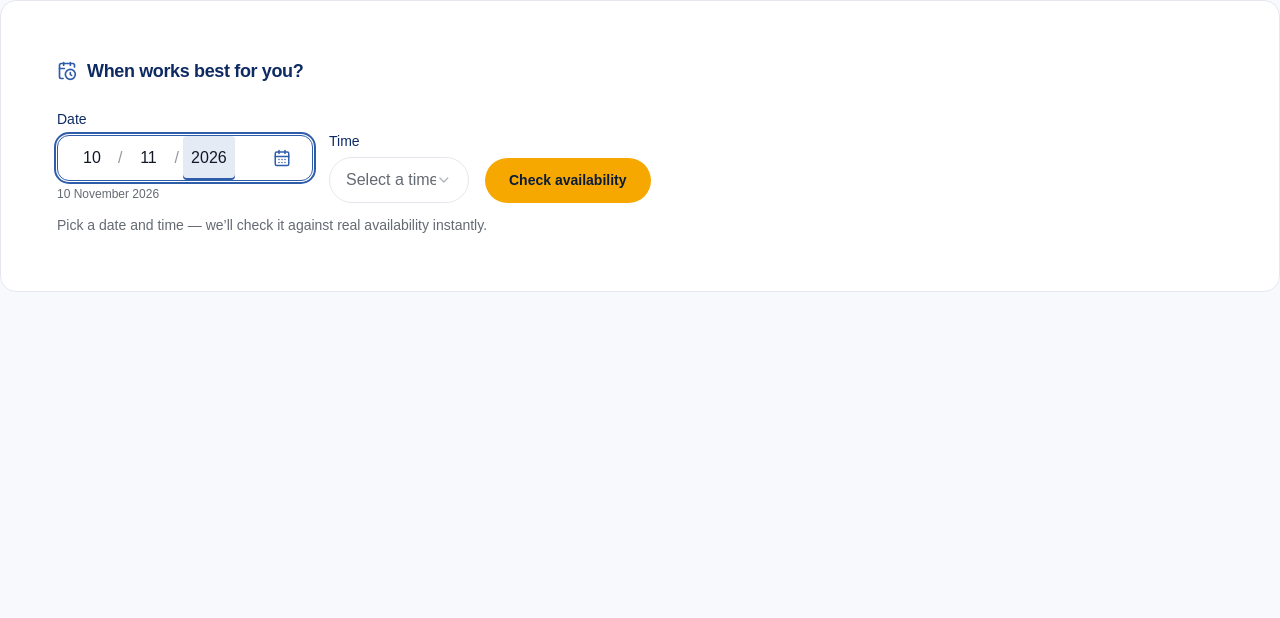
it: Booking — 422/429 codes show localized copy, not the backend English › daily_booking_limit
Click the dropdown at {"x": 399, "y": 180}, box left=329, top=157, right=469, bottom=203
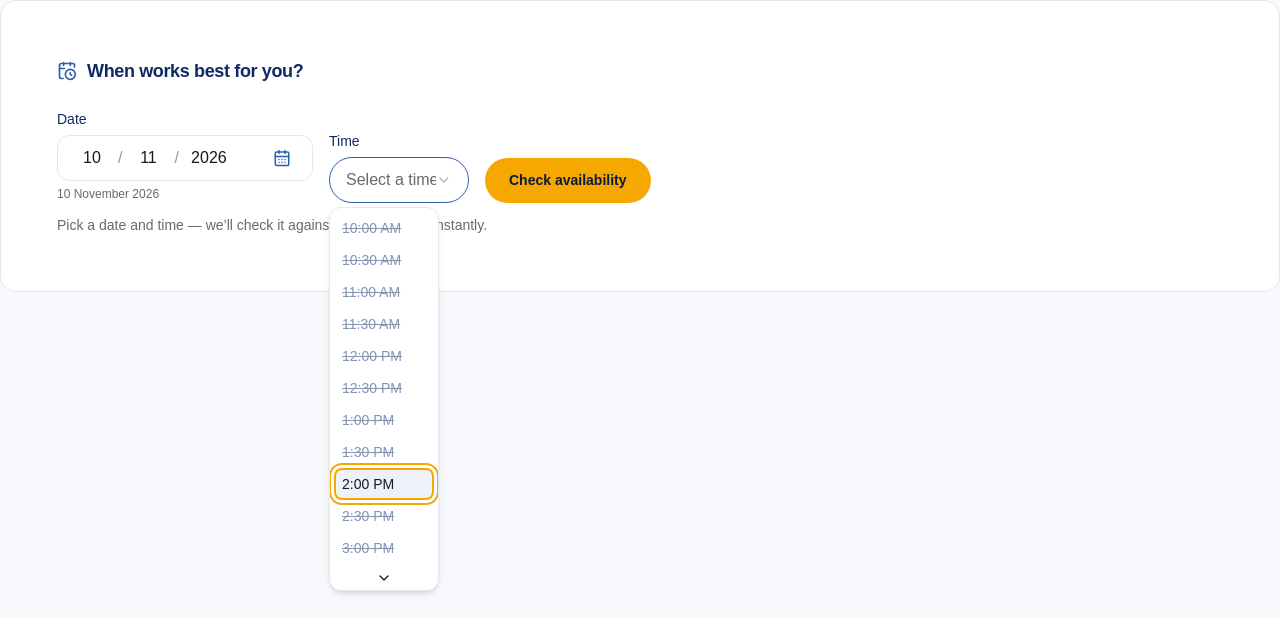
Click the option "2:00 PM" at {"x": 384, "y": 484}, box left=334, top=468, right=434, bottom=500
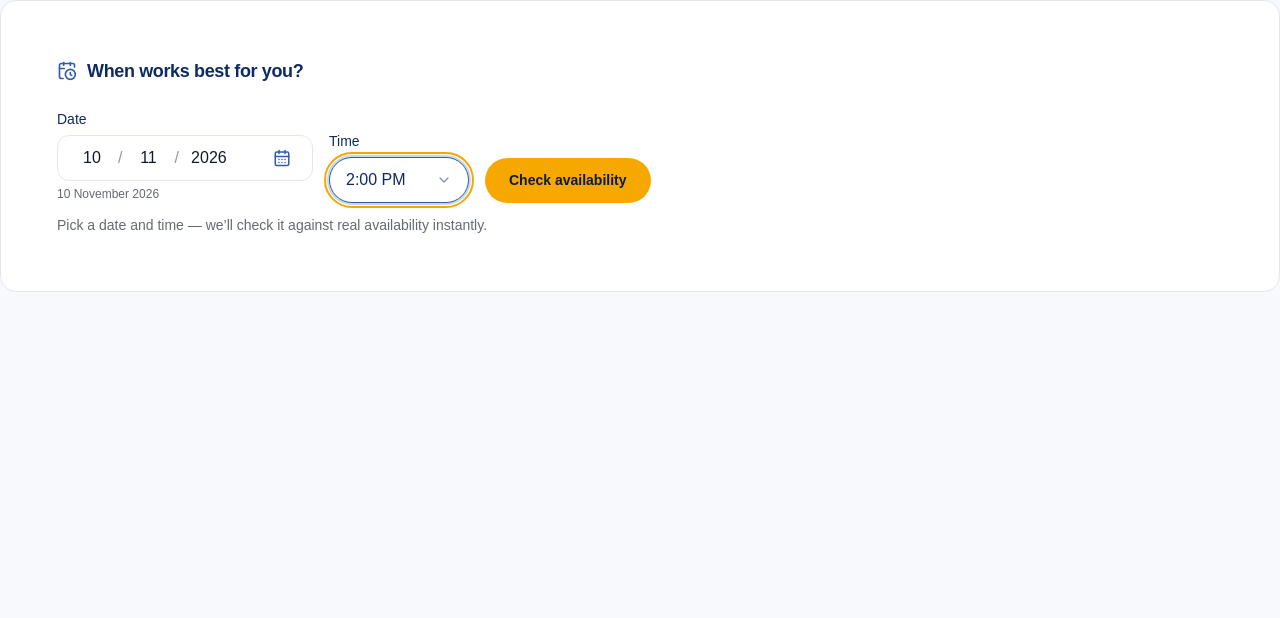
Click the button "Check availability" at {"x": 568, "y": 180}, box left=485, top=158, right=650, bottom=203
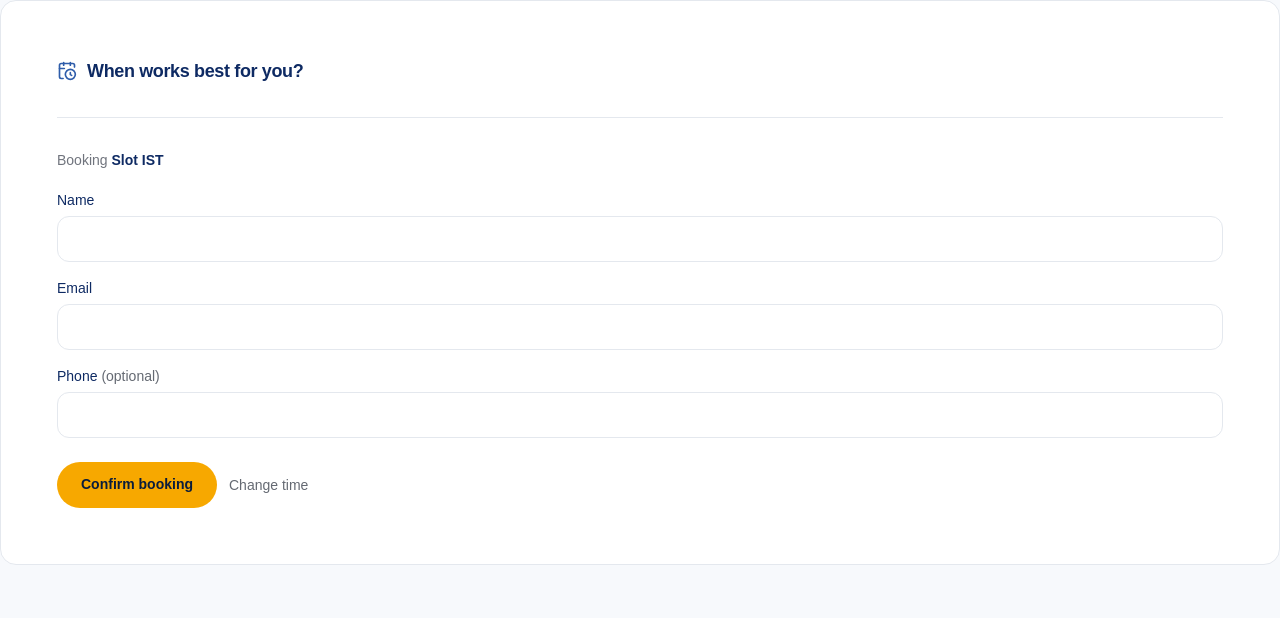
Type "Asha Roy" into the field labelled "Name" at {"x": 640, "y": 239}, box left=57, top=216, right=1223, bottom=262
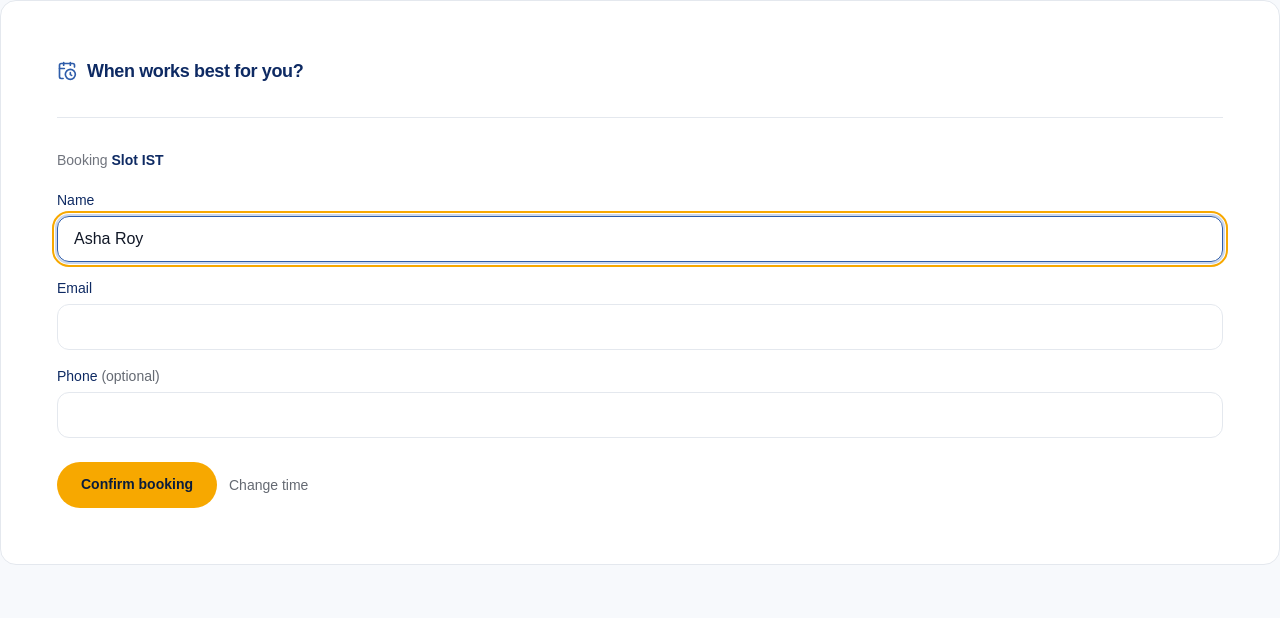
Type "asha@example.com" into the field labelled "Email" at {"x": 640, "y": 327}, box left=57, top=304, right=1223, bottom=350
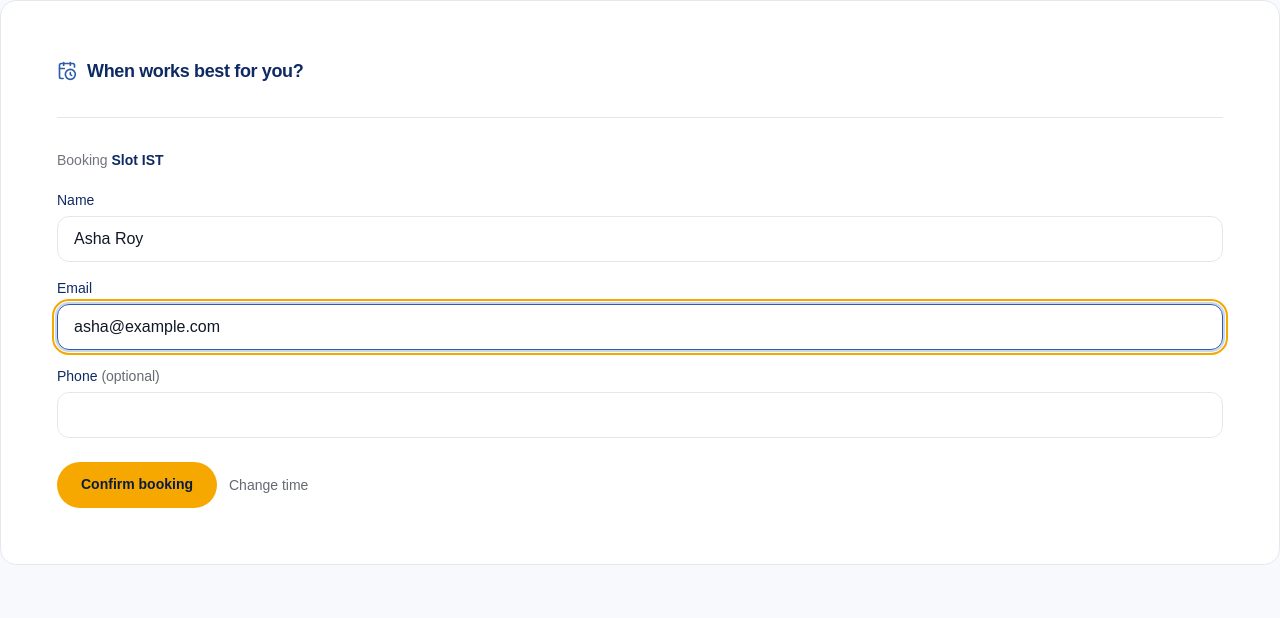
Click the button "Confirm booking" at {"x": 137, "y": 485}, box left=57, top=462, right=217, bottom=508
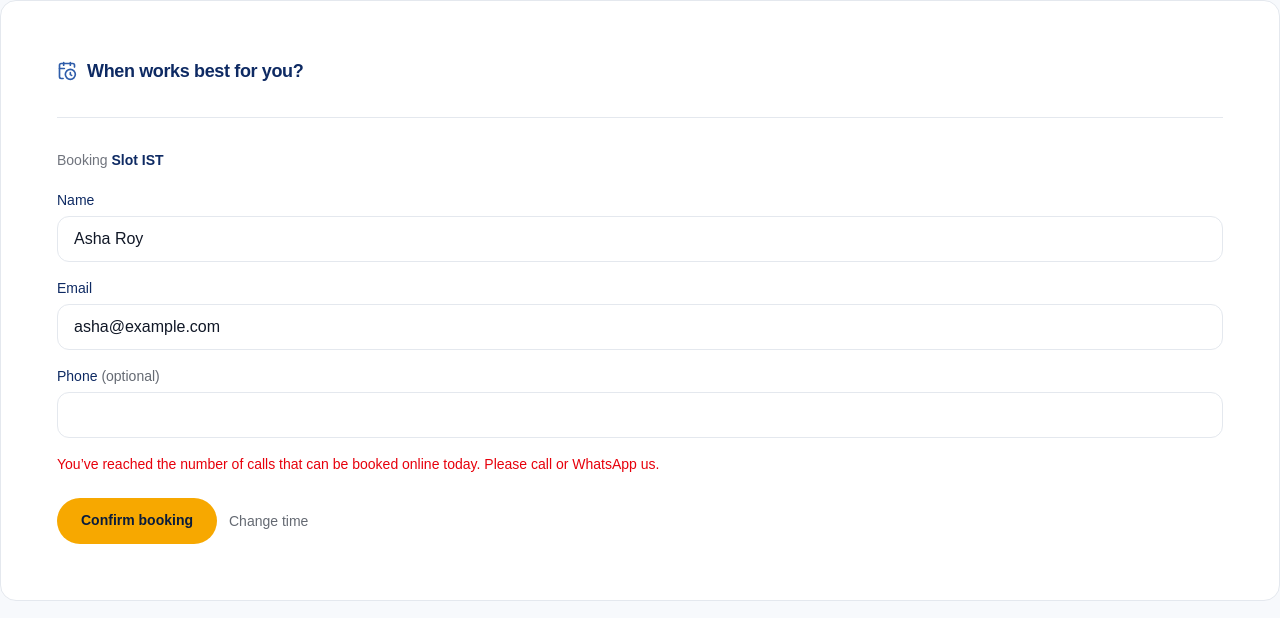
Now the text "You’ve reached the number of calls that can be booked online today. Please call or WhatsApp us." is shown, box left=57, top=456, right=659, bottom=472
